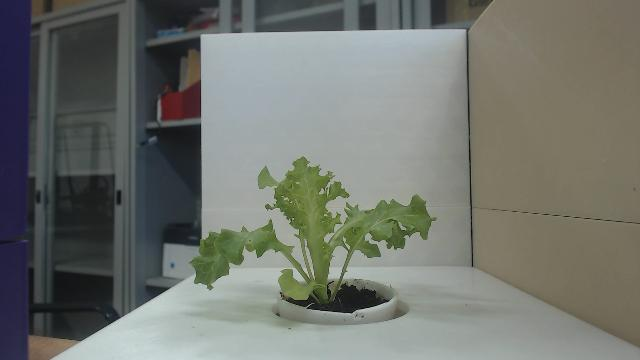Vegetative Stage: (189, 156, 439, 308)
